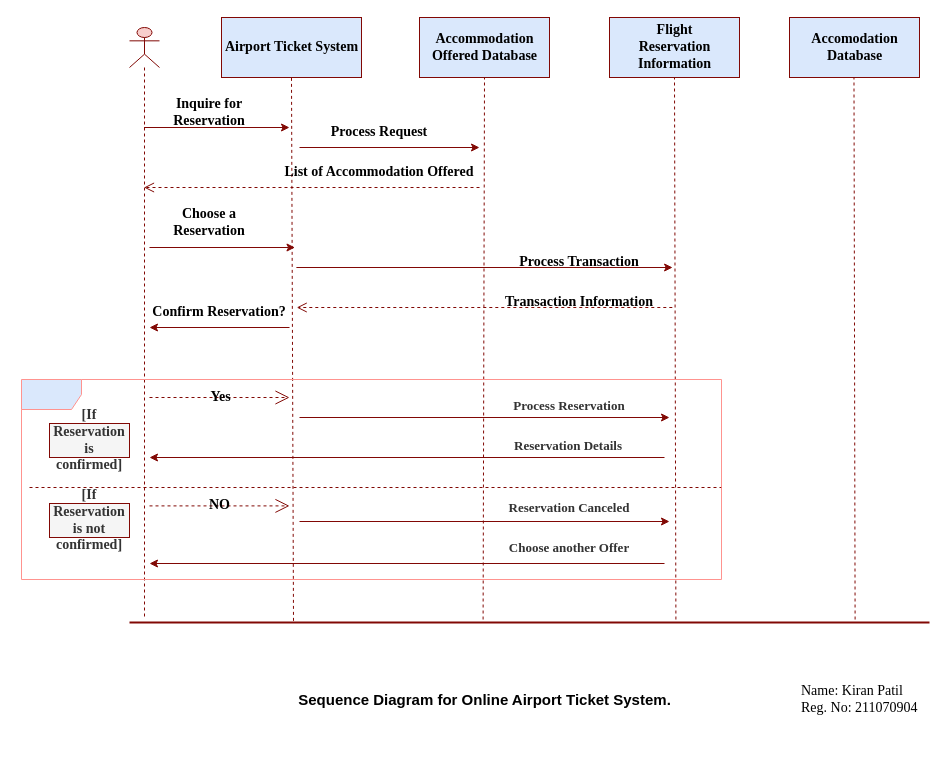
This 948x759 diagram has some shape labels left out. Each missing label, with the box of its shape:
Alternative: (20, 378, 722, 580)
User: (128, 26, 160, 618)
